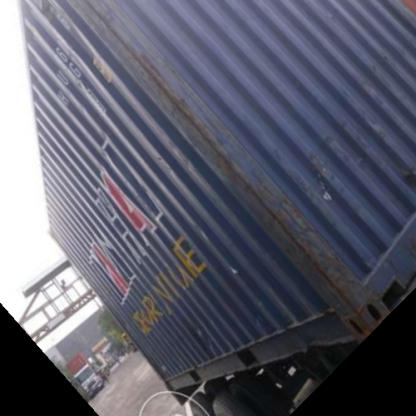Damage: (243, 191, 376, 319), (163, 91, 275, 214), (82, 1, 162, 93)
